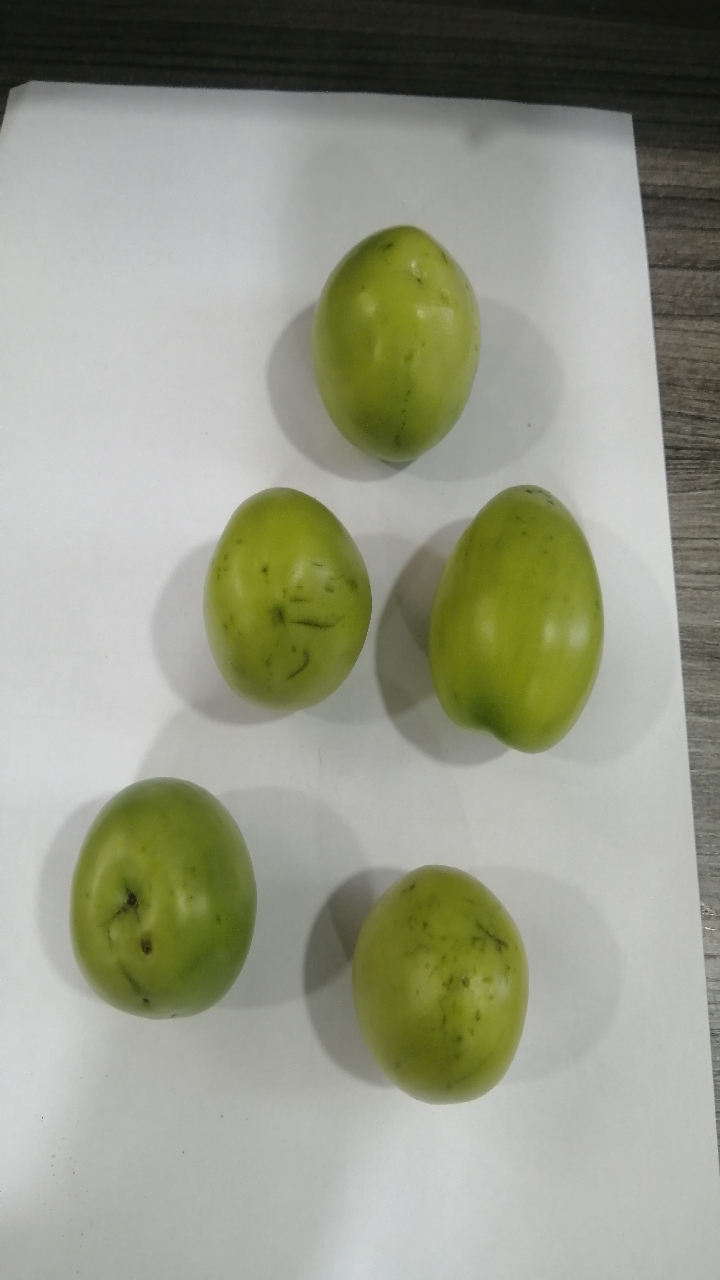tomateVerde: (398, 455, 611, 780), (174, 446, 391, 748), (49, 754, 274, 1043), (283, 202, 508, 486), (329, 851, 557, 1131)
